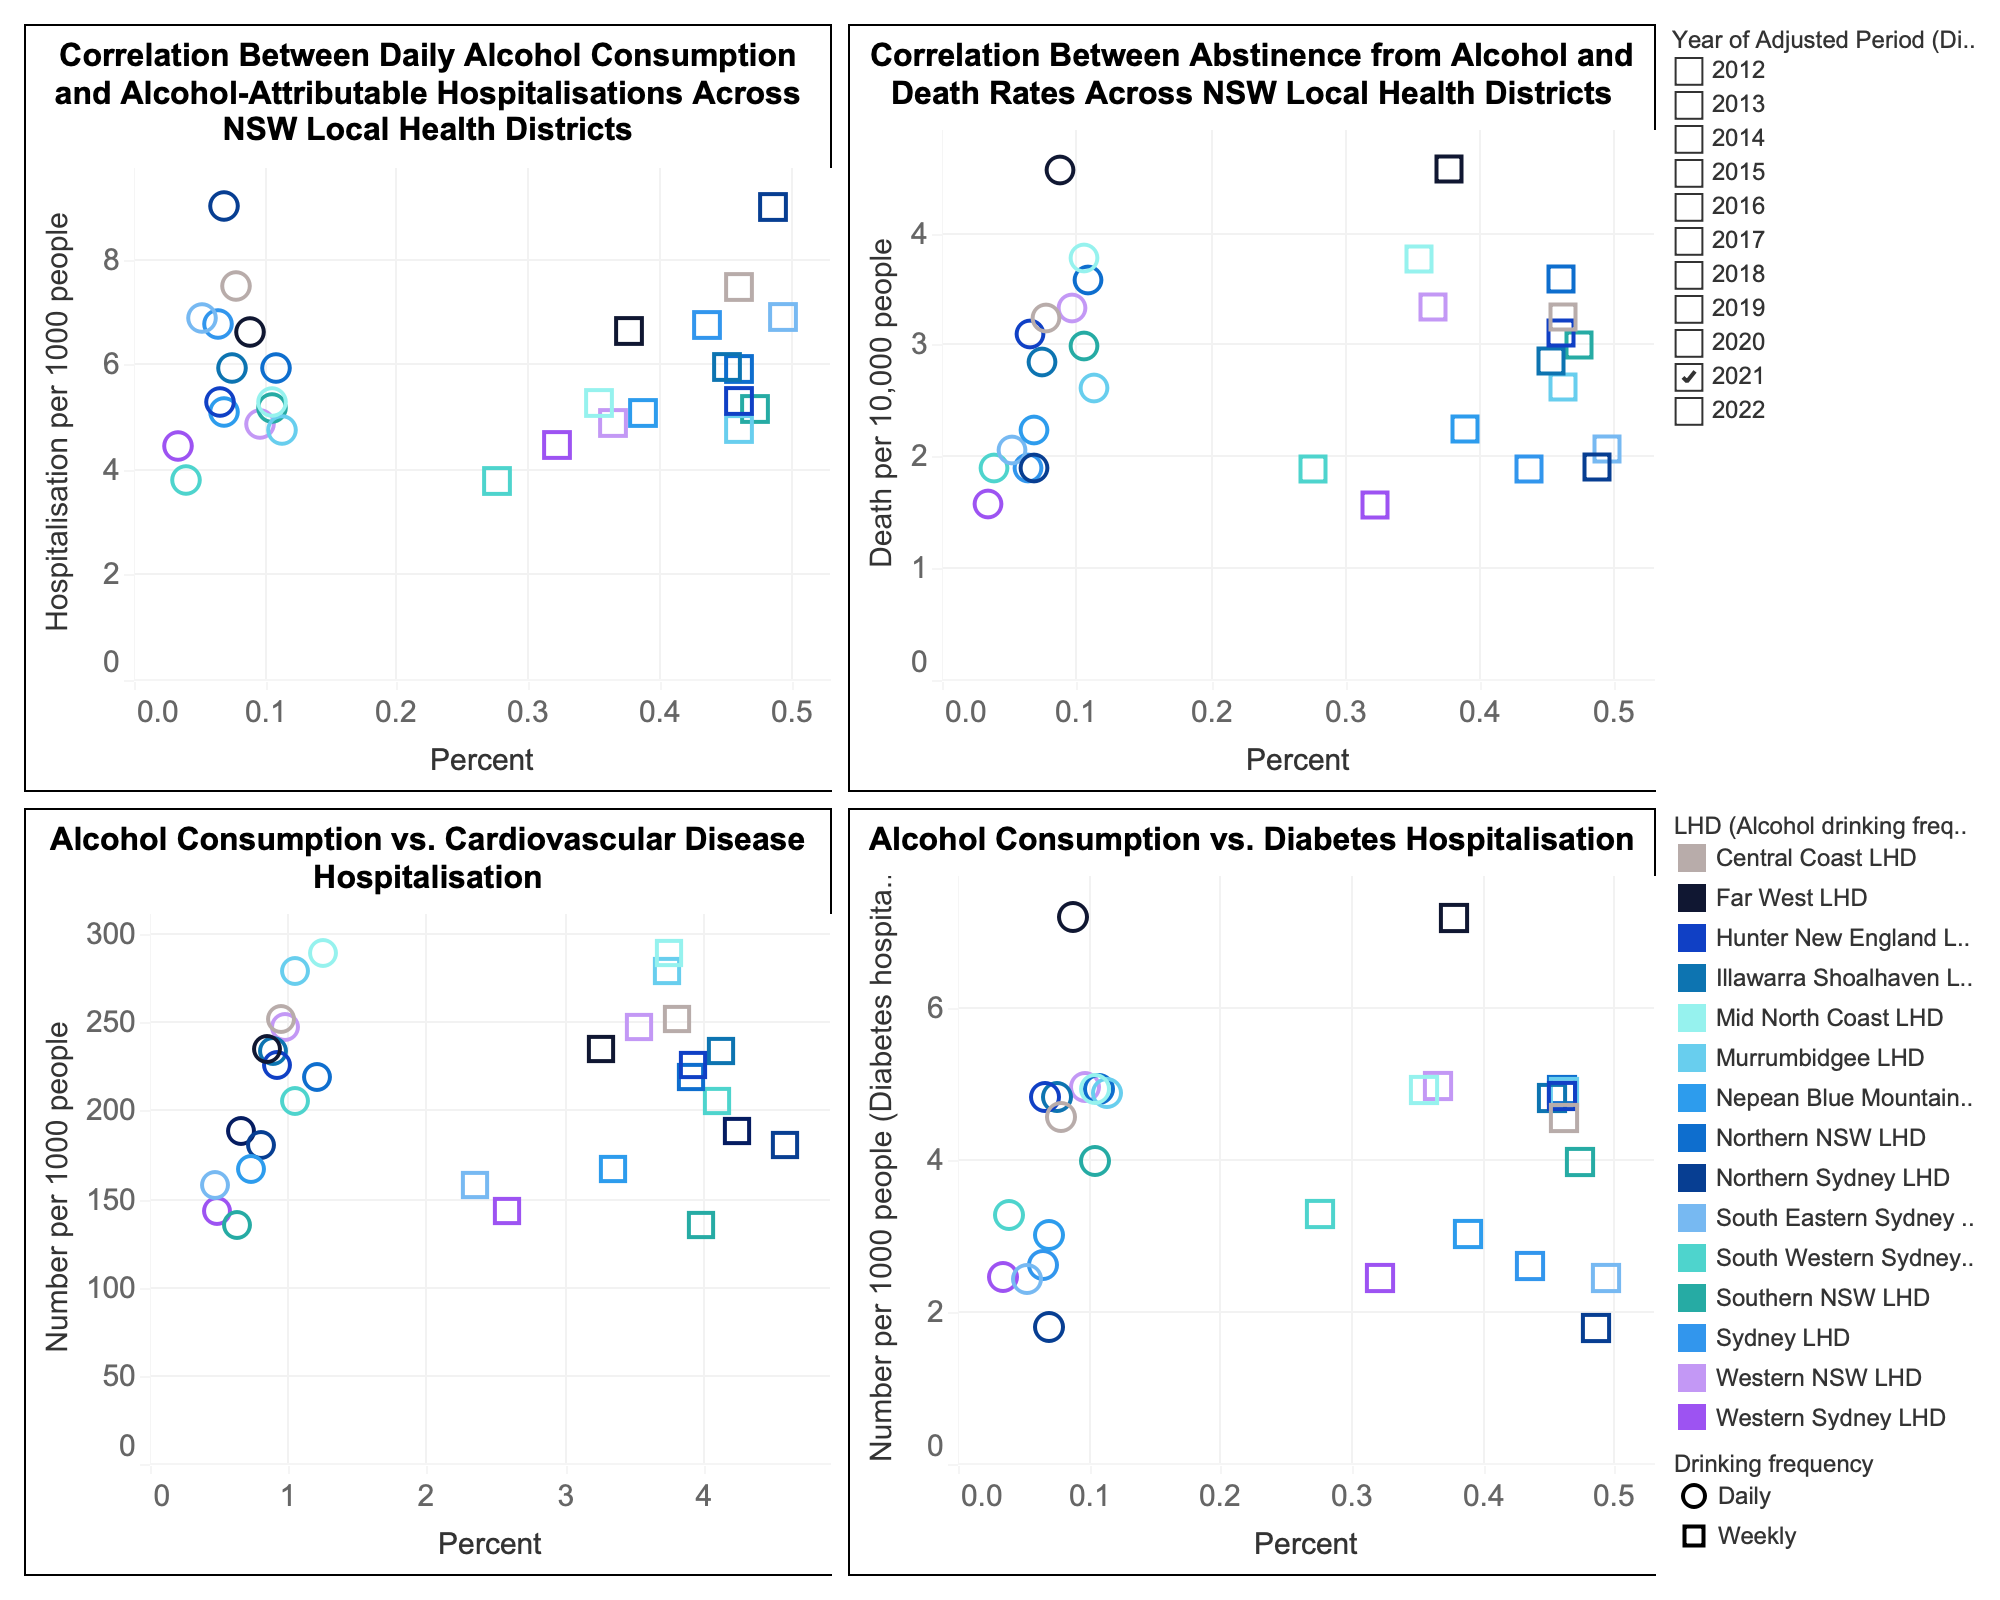

Layout of this report page (visuals, bound fields, positions):
{"tool":"tableau","page":{"name":"Correlation of alcohol consumtion and diseases","canvas":[1000,800],"ordinal":2},"visuals":[{"type":"worksheet","title":"Correlation Between Daily Alcohol Consumption and Alcohol-Attributable Hospitalisations Across NSW Local Health District","mark":"Automatic","rows":["Hospitalisation per 1000 people"],"cols":["Per cent"],"box":[8,8,412,392]},{"type":"worksheet","title":"Correlation Between Abstinence from Alcohol and Death Rates Across NSW Local Health Districts","mark":"Automatic","rows":["Calculation_1363464794272129032"],"cols":["Per cent"],"box":[420,8,412,392]},{"type":"filter","title":"Alcohol Consumption vs. Diabetes Hospitalisation","param":"[federated.02gao4w0uxefwz1dsfkx11q1vcgu].[yr:Adjusted Period (Diabetes hospitali","box":[832,8,160,245]},{"type":"worksheet","title":"Alcohol Consumption vs. Cardiovascular Disease Hospitalisation","mark":"Automatic","rows":["Number per 1000 people"],"cols":["Per cent"],"box":[8,400,412,392]},{"type":"worksheet","title":"Alcohol Consumption vs. Diabetes Hospitalisation","mark":"Automatic","rows":["Number per 1000 people (Diabetes hospitalisations)"],"cols":["Per cent"],"box":[420,400,412,392]},{"type":"legend","title":"Correlation Between Daily Alcohol Consumption and Alcohol-Attributable Hospitalisations Across NSW Local Health District","param":"[federated.02gao4w0uxefwz1dsfkx11q1vcgu].[none:LHD (Alcohol drinking frequency):","box":[832,400,160,319]},{"type":"legend","title":"Correlation Between Daily Alcohol Consumption and Alcohol-Attributable Hospitalisations Across NSW Local Health District","param":"[federated.02gao4w0uxefwz1dsfkx11q1vcgu].[none:Drinking frequency:nk]","box":[832,719,160,68]}]}

Visuals, with their boxes in screenshot pixels (x1, y1, x2, y2), scaled from the page's 1000x800 canvas onto the 2000x1600 screenshot:
"Correlation Between Daily Alcohol Consumption and Alcohol-Attributable Hospitalisations Across NSW Local Health District" worksheet: 16:16:840:800
"Correlation Between Abstinence from Alcohol and Death Rates Across NSW Local Health Districts" worksheet: 840:16:1664:800
"Alcohol Consumption vs. Diabetes Hospitalisation" filter: 1664:16:1984:506
"Alcohol Consumption vs. Cardiovascular Disease Hospitalisation" worksheet: 16:800:840:1584
"Alcohol Consumption vs. Diabetes Hospitalisation" worksheet: 840:800:1664:1584
"Correlation Between Daily Alcohol Consumption and Alcohol-Attributable Hospitalisations Across NSW Local Health District" legend: 1664:800:1984:1438
"Correlation Between Daily Alcohol Consumption and Alcohol-Attributable Hospitalisations Across NSW Local Health District" legend: 1664:1438:1984:1574
